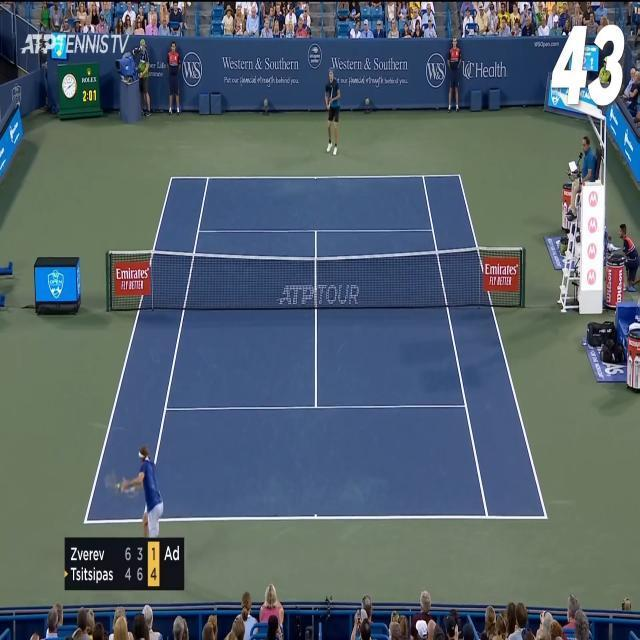court: (83, 174, 549, 524)
net: (105, 245, 526, 308)
player: (104, 443, 164, 538)
